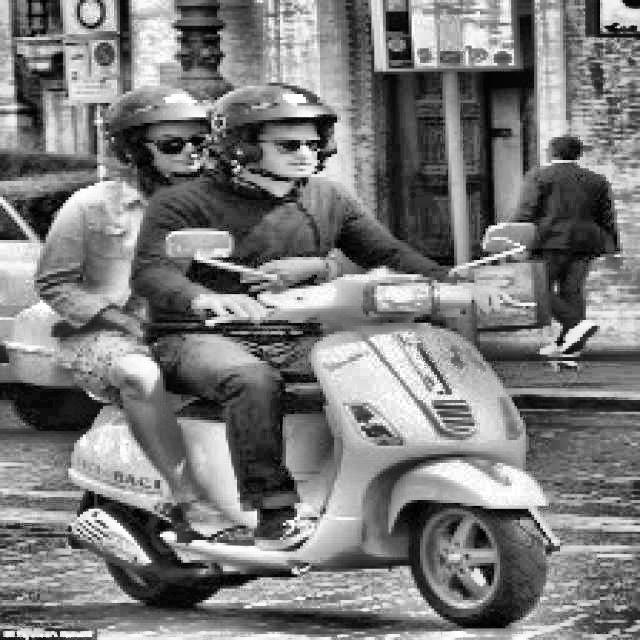motorcycle: (41, 219, 574, 632)
